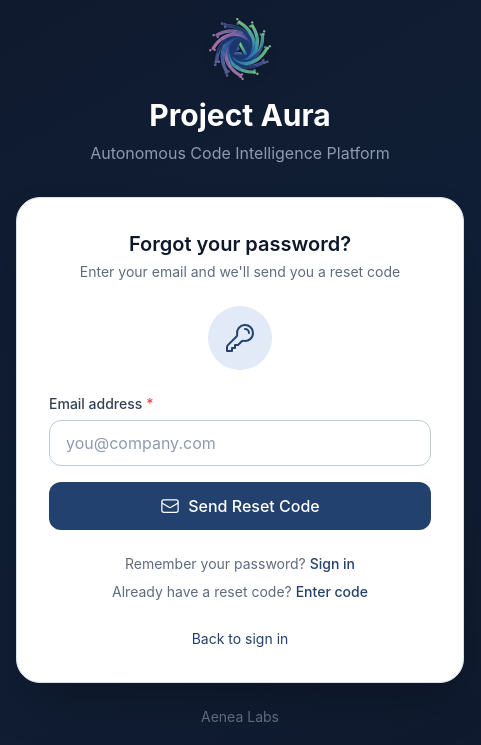
ForgotPasswordPage › allows trying again if email not received
This screenshot has width=481, height=745.
In the field labelled "Email address*": (240, 443) [49,420,431,466], type "test@example.com"
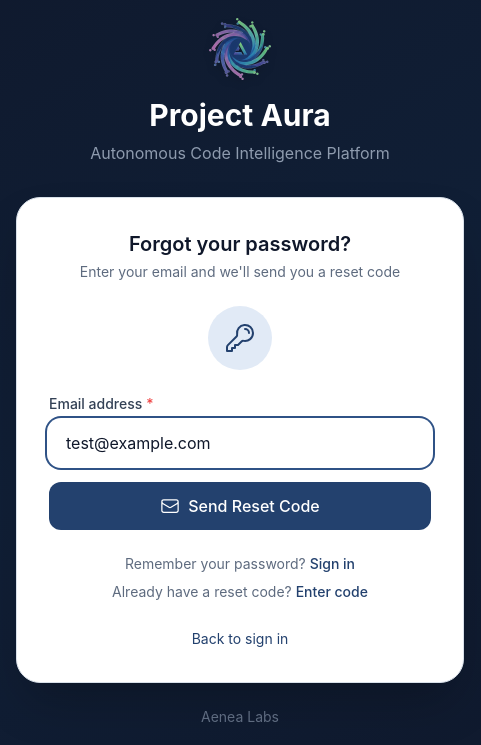
Click the button "Send Reset Code": (240, 506) [49,482,431,530]
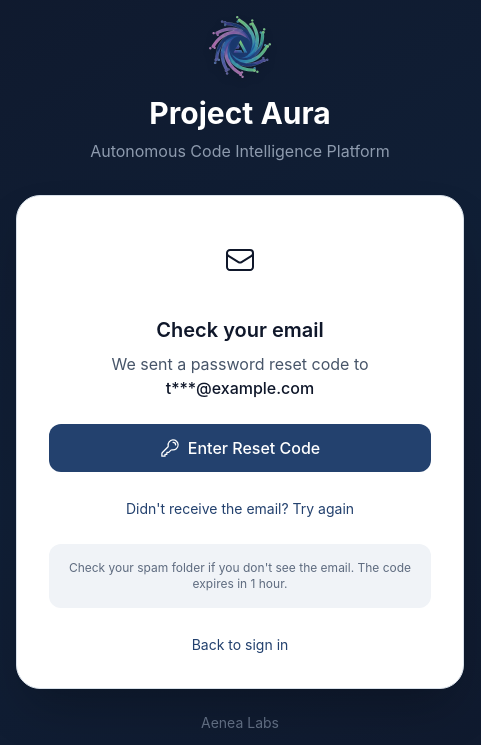
expect the heading "Check your email" is shown: met, box [156,318,324,342]
Note: Click try again
Click the button "Didn't receive the email? Try again": (240, 509) [126,499,354,519]
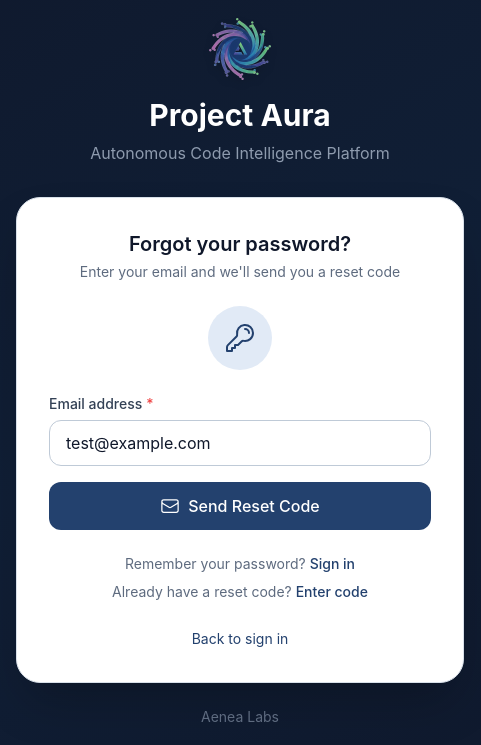
expect the field labelled "Email address*" is shown: met, box [49,420,431,466]
